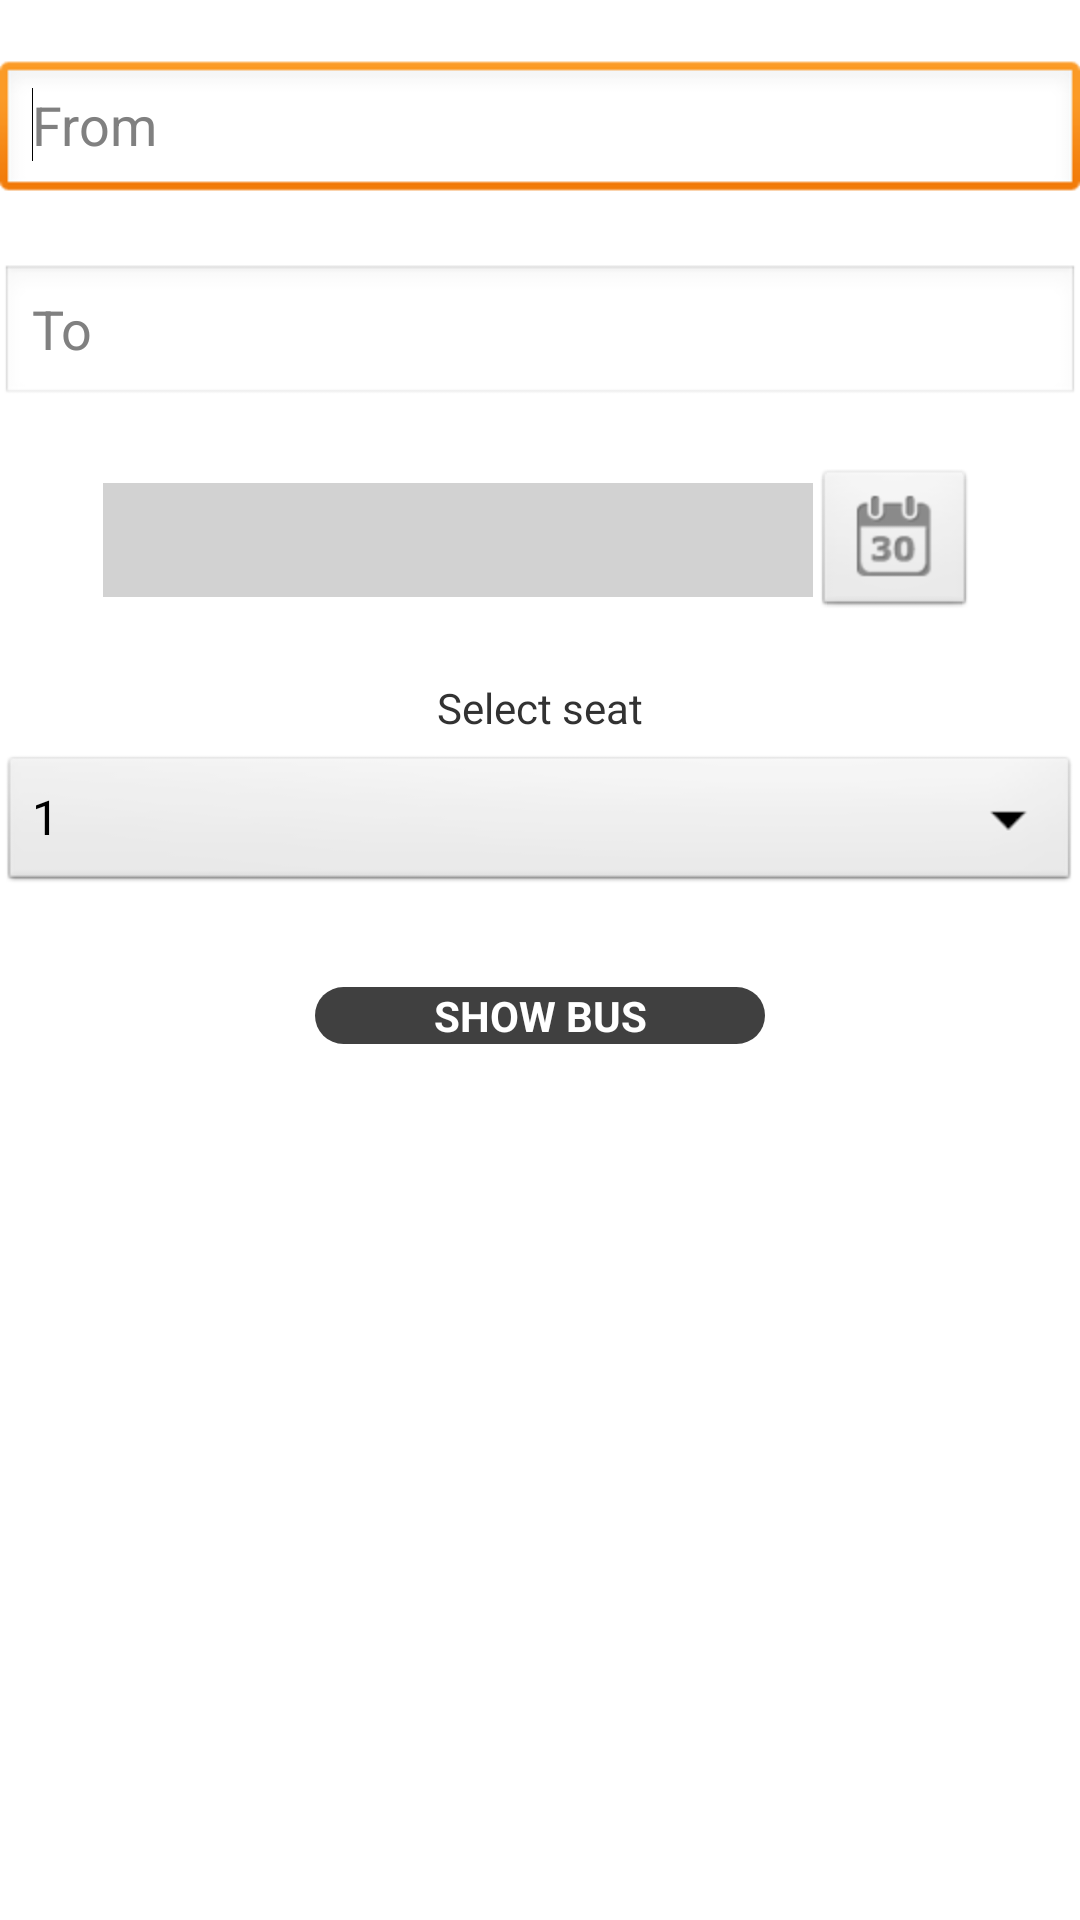

Screen size 1080 x 1920. Icon name, then its box in pixels as region(x1, y1, x2, y2):
Select Date: region(821, 470, 968, 607)
